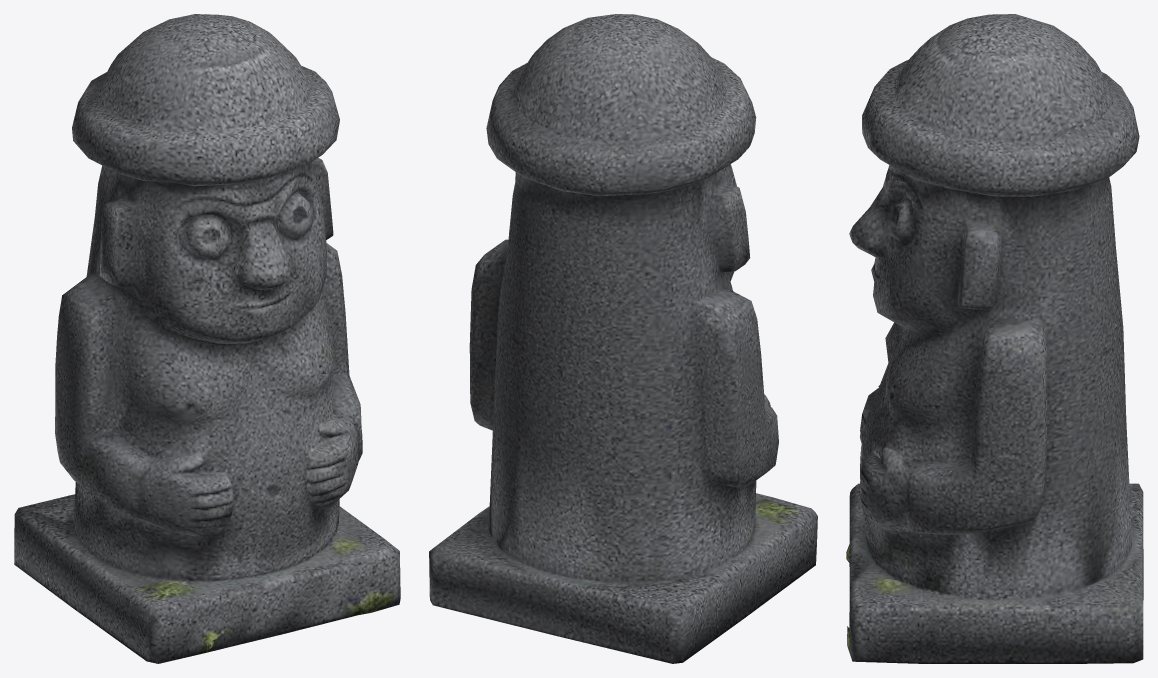
Rendered from hareubang.glb.
The picture shows the model from 3 angles, left to right: view 1: azimuth 30°, elevation 25°; view 2: azimuth 150°, elevation 25°; view 3: azimuth 270°, elevation 25°; orthographic projection. The views are drawn at different scales.
Visible parts, largest first — view 1: prop; view 2: prop; view 3: prop.
Boxes of the visible parts, x1,y1,x2,y2 form: prop: (14, 14, 400, 663); prop: (429, 14, 817, 663); prop: (846, 14, 1143, 663).
Bounding box in the file's own units: 0.4948 × 0.9792 × 0.4578.
Materials: 1 (1 with a texture image).
